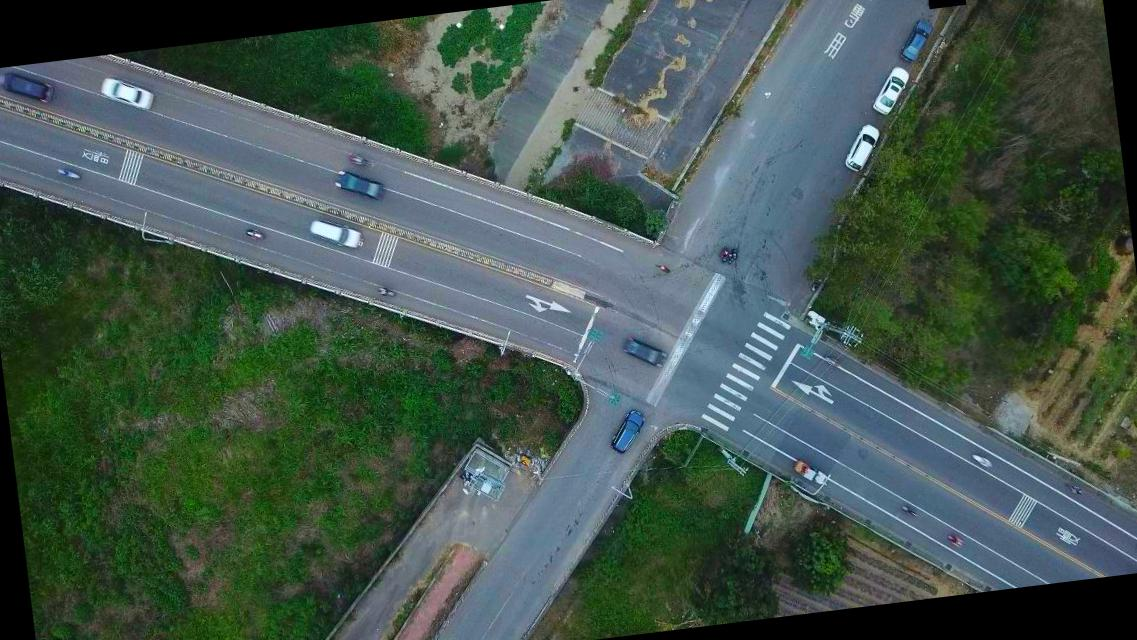vehicle: (97, 70, 155, 115), (866, 64, 913, 118), (0, 64, 55, 110), (308, 212, 364, 254), (840, 122, 884, 174), (607, 406, 650, 456), (332, 166, 386, 204), (620, 332, 666, 372), (896, 18, 934, 62)
